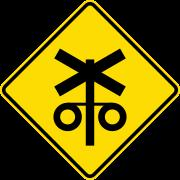Barrier Ahead: (8, 10, 164, 152)
